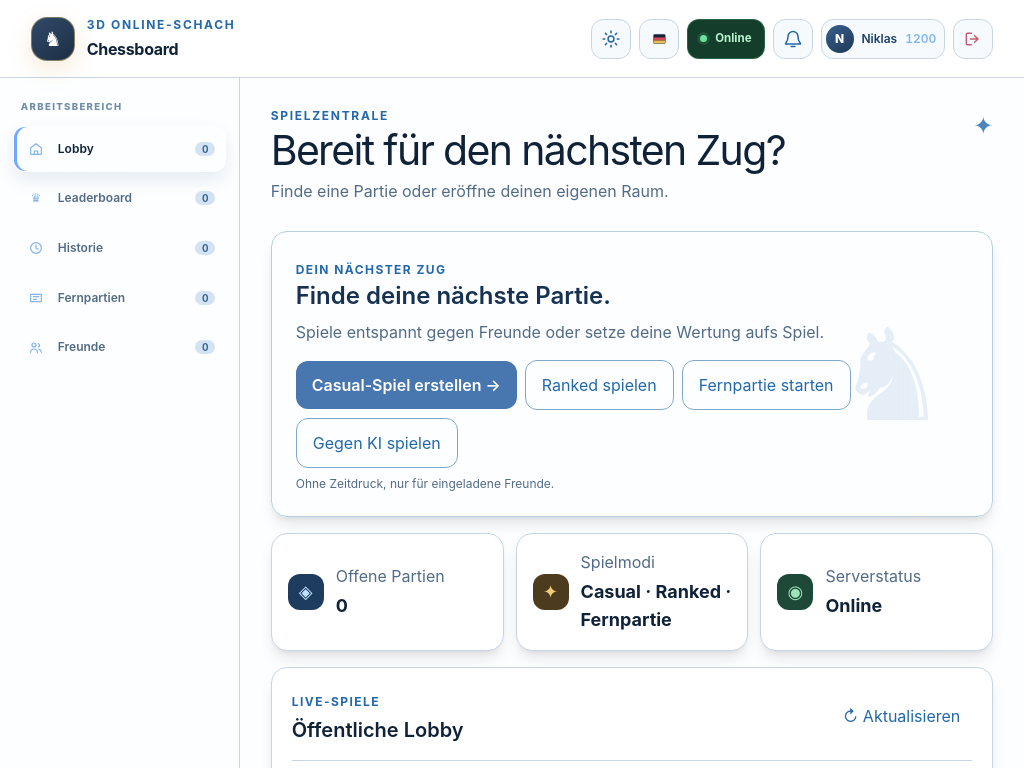
it: App › shows notifications and links a game invitation to the game
Expected: the heading "Bereit für den nächsten Zug?" is shown, top-left (271, 130), bottom-right (785, 171)
What coordinates should you click on to do the following:
click the button named "Benachrichtigungen"
I would click on:
 (792, 38)
Its box is top-left (772, 18), bottom-right (812, 58).
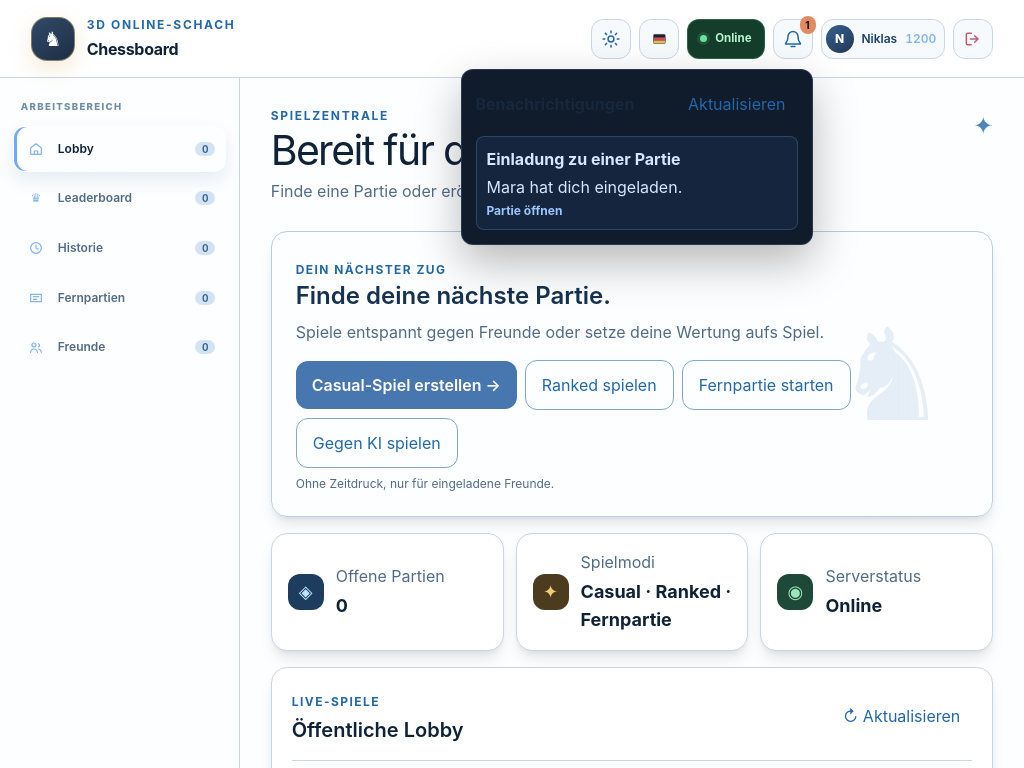
Expected: the text "Einladung zu einer Partie" is shown, top-left (486, 149), bottom-right (681, 169)
